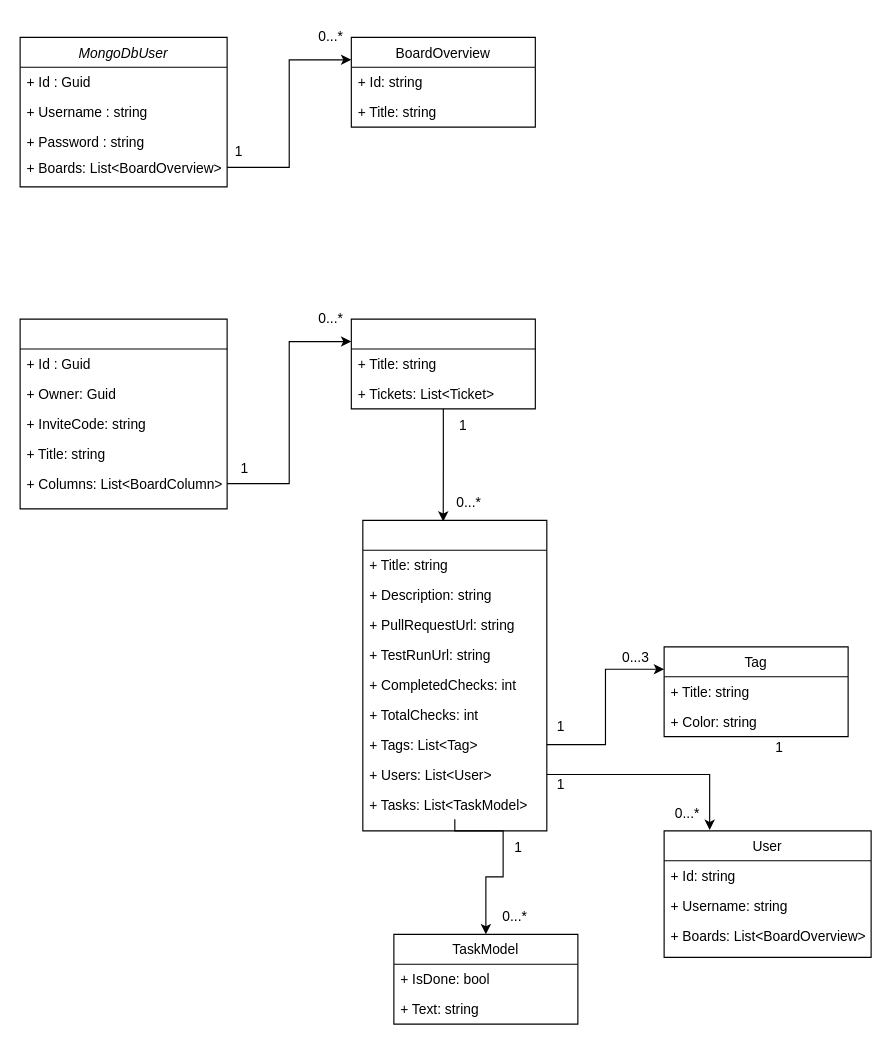
The diagram is 891 pixels wide and 1047 high, and some of its shapes have lost their labels. Here are the shapes that lost their labels. From the top down, the box of each, then its label:
(350, 318, 535, 409): BoardColumn
(19, 318, 227, 509): MongoDbBoard
(362, 519, 547, 831): Ticket
